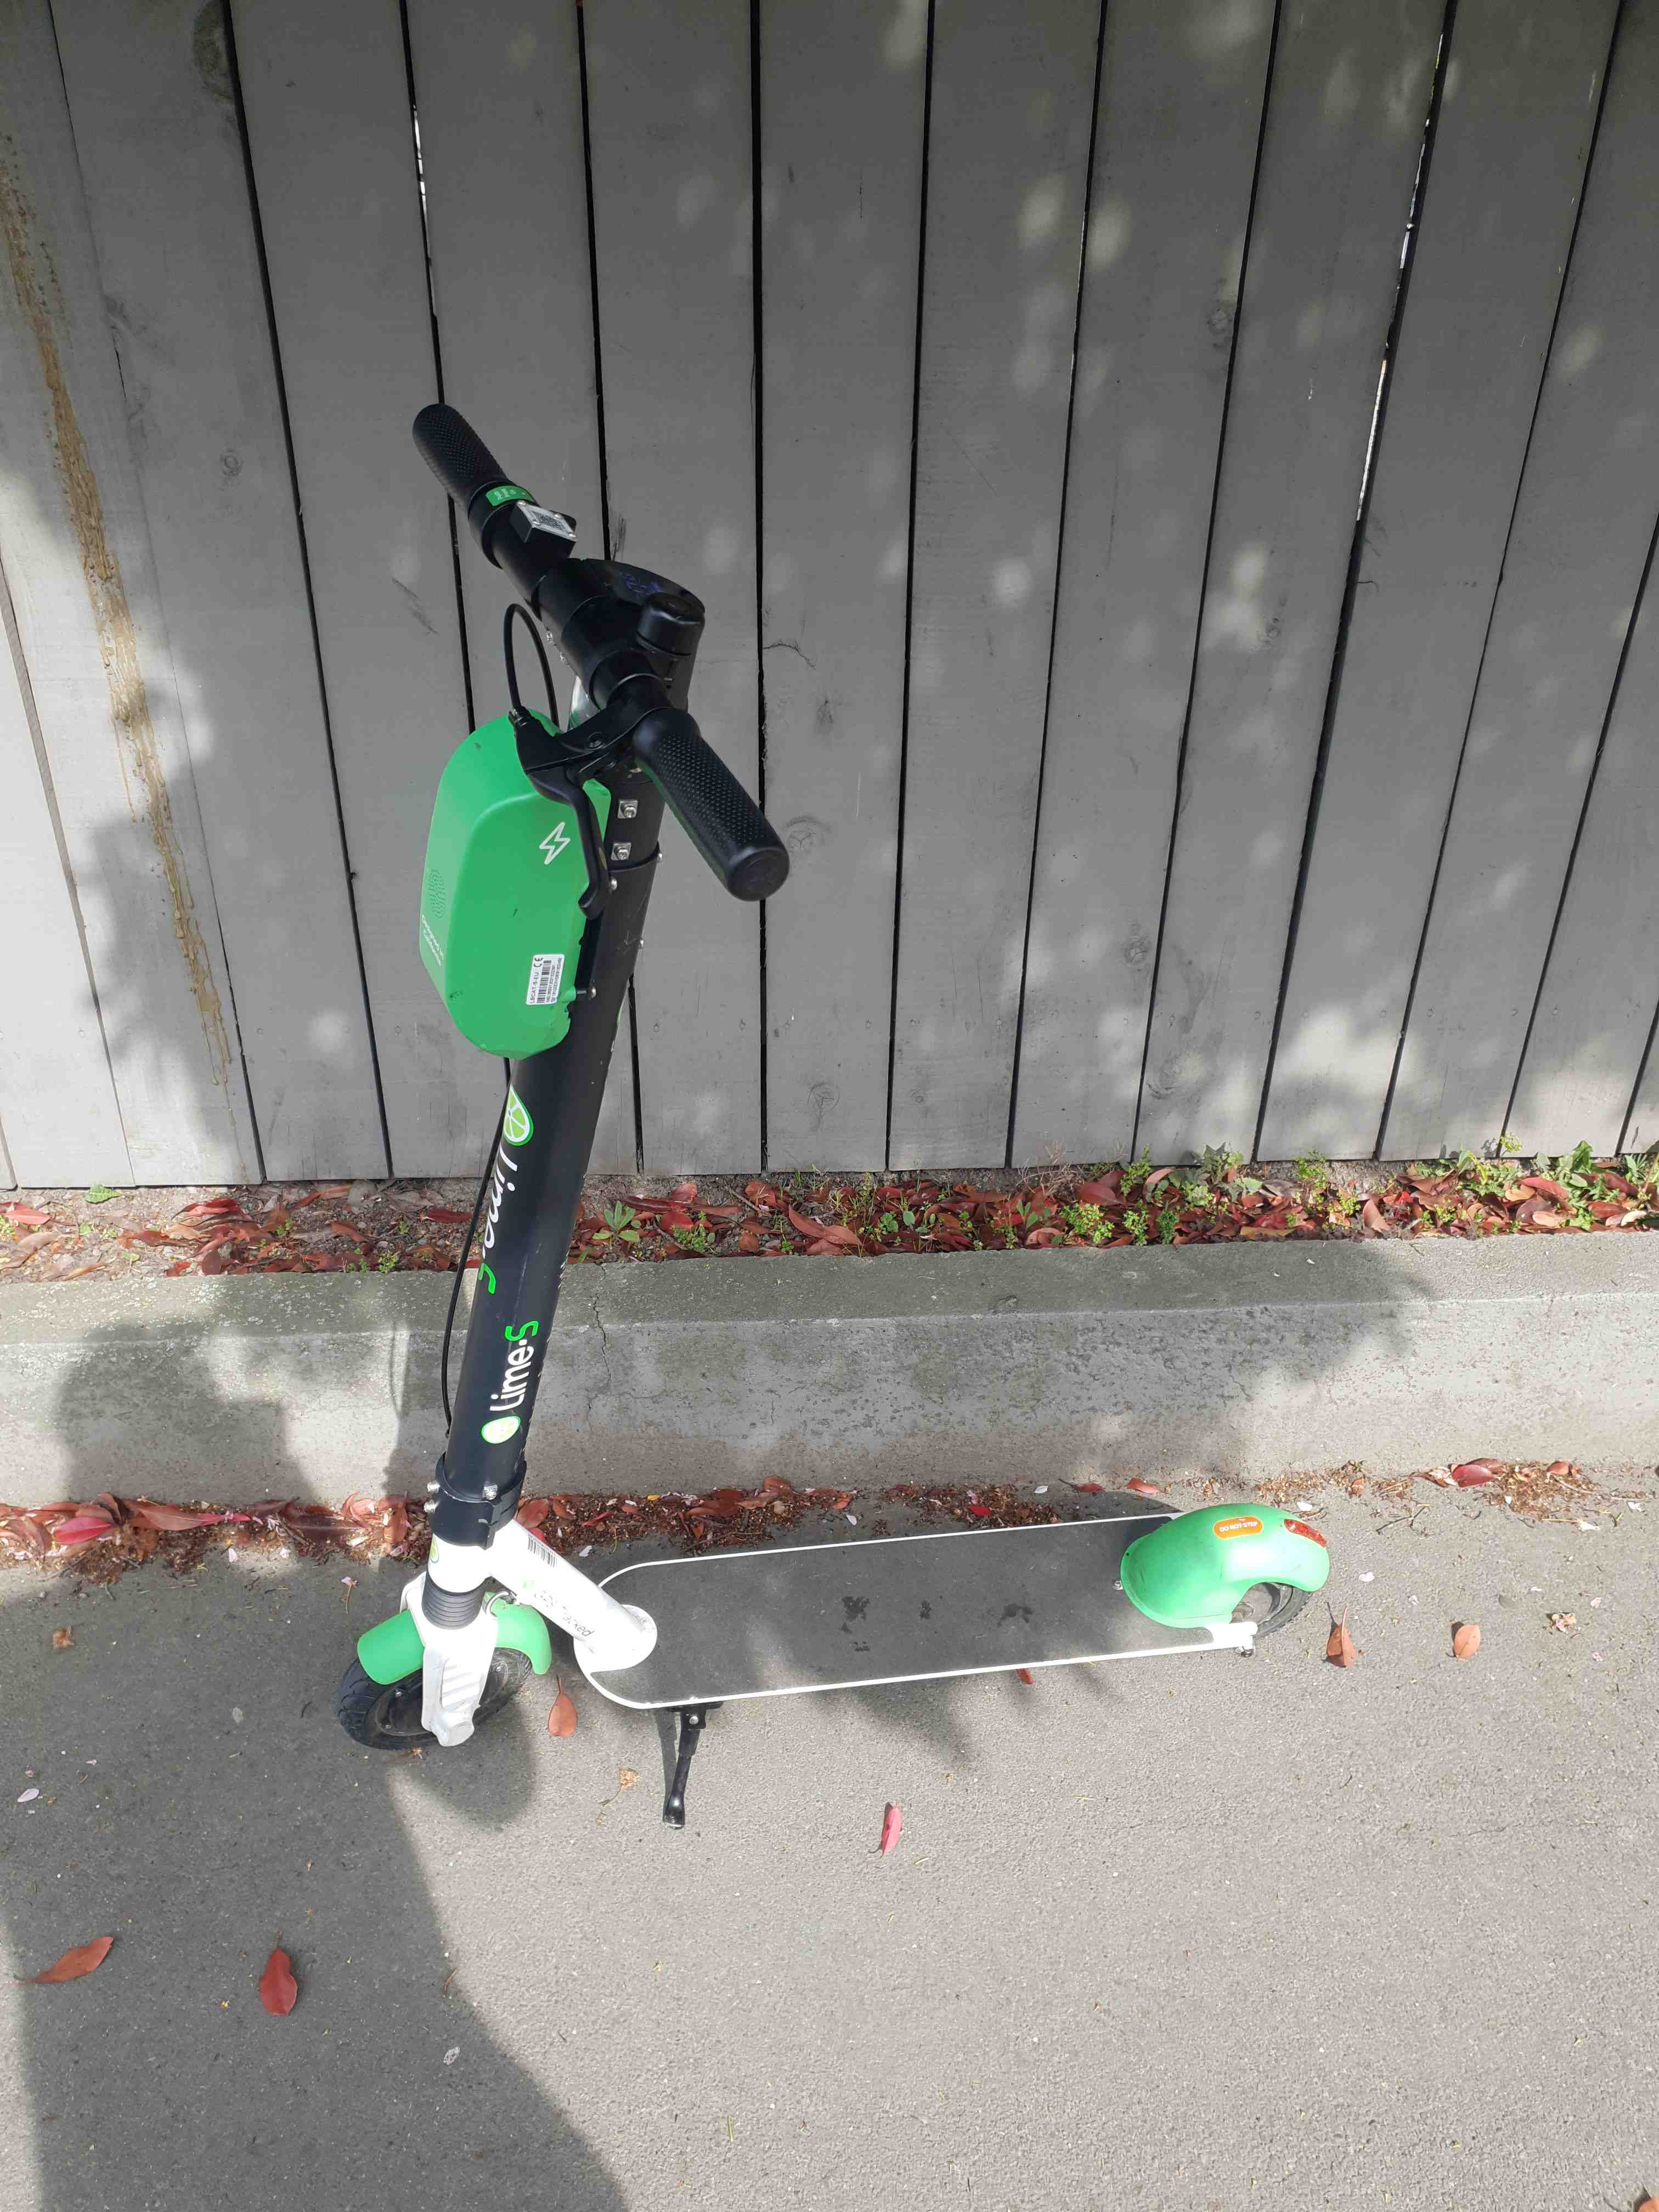scooter: (293, 366, 1371, 1780)
